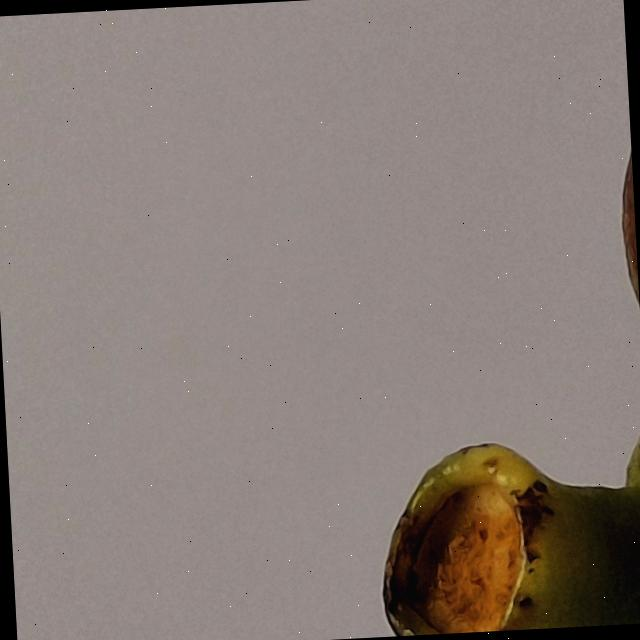mangosteen: (293, 0, 640, 640)
